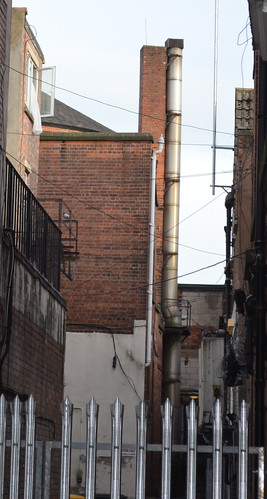building: (41, 55, 183, 478), (1, 41, 46, 499), (216, 37, 267, 409)
sky: (51, 1, 230, 255)
